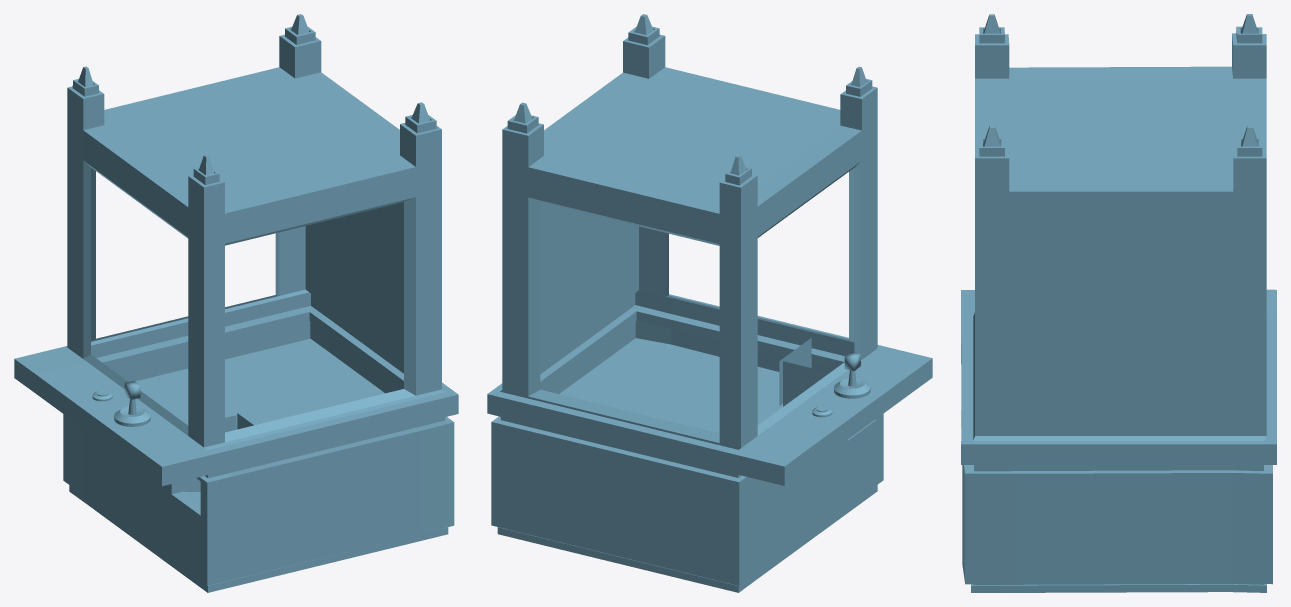
File: Machine-pince.glb
The picture shows the model from 3 angles, left to right: view 1: azimuth 30°, elevation 25°; view 2: azimuth 150°, elevation 25°; view 3: azimuth 270°, elevation 25°; orthographic projection. The views are drawn at different scales.
Visible parts, largest first — view 1: Machine à pinces, Plancher; view 2: Machine à pinces, Plancher, Mur_cote, Mur_avant; view 3: Machine à pinces.
Part boxes in pixels (<box>): Machine à pinces: <box>14,14,458,592</box>; Plancher: <box>135,338,384,429</box>; Machine à pinces: <box>487,14,932,592</box>; Plancher: <box>559,338,783,433</box>; Mur_cote: <box>783,361,829,405</box>; Mur_avant: <box>779,338,811,405</box>; Machine à pinces: <box>961,14,1276,592</box>.
Bounding box in the file's own units: 13.8 × 19 × 11.9.
